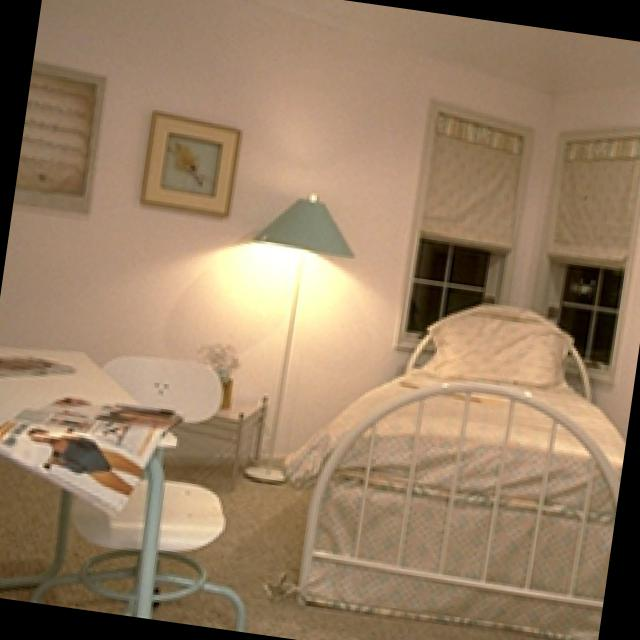2001: (401, 96, 534, 339), (538, 124, 640, 371)
bed -occluded-: (284, 299, 621, 640)
bouquet: (193, 340, 237, 402)
ceiling beam: (258, 0, 640, 93)
chair -occluded-: (33, 354, 238, 621)
curtain crop: (421, 104, 520, 245), (552, 136, 640, 258)
desk calendar: (0, 340, 176, 444)
lamp crop: (239, 190, 352, 476)
magazine holder: (0, 396, 171, 502), (0, 353, 63, 370)
painting crop: (14, 55, 105, 211), (138, 104, 239, 213)
pillow occluded: (430, 315, 560, 379)
small table part: (186, 393, 264, 462)
